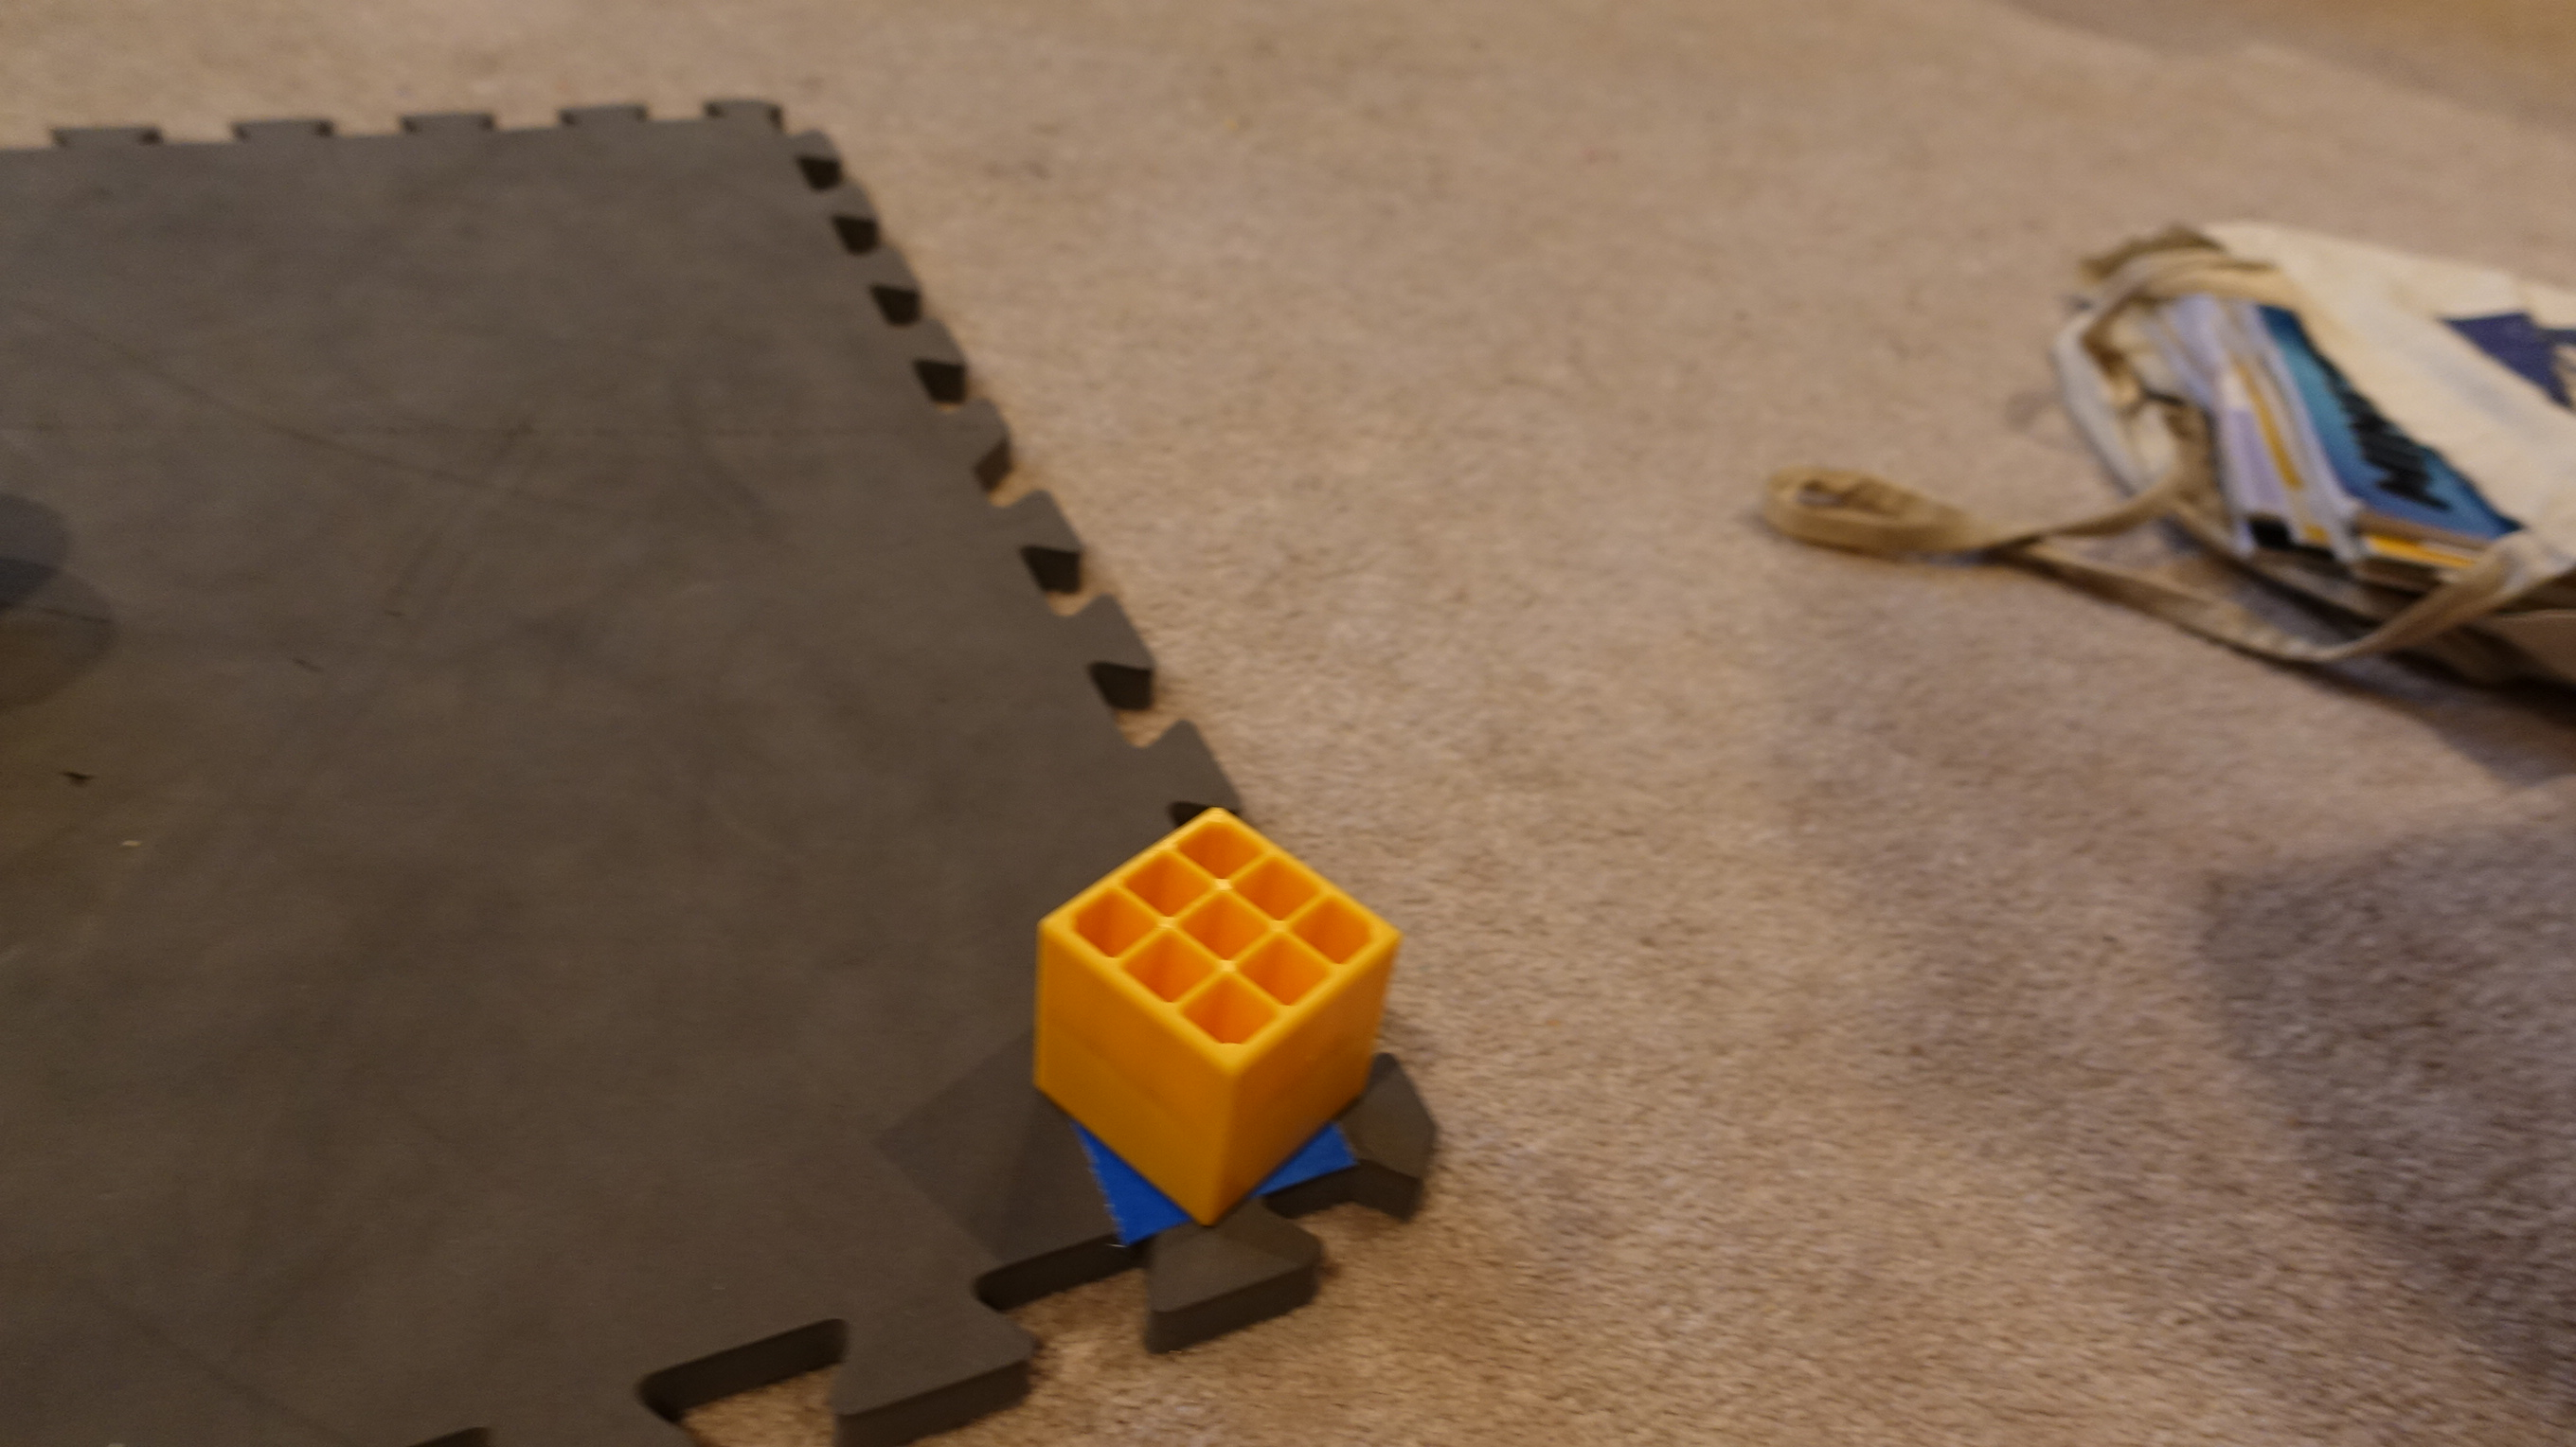gold: (1021, 794, 1428, 1231)
